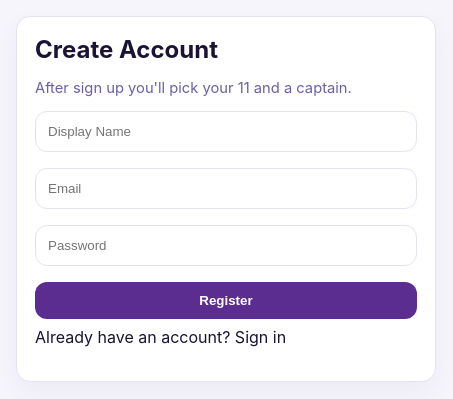
Register Component › disables form inputs during loading
In the field with placeholder "Display Name": (226, 132) [35,111,417,152], type "John Doe"
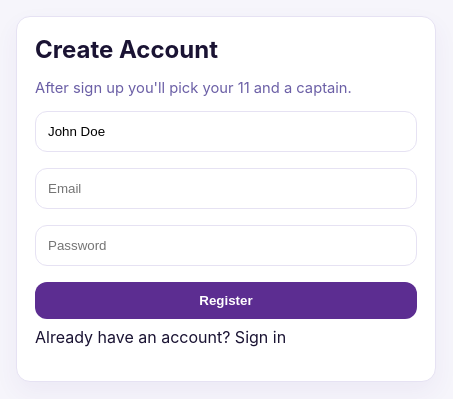
In the field with placeholder "Email": (226, 189) [35,168,417,209], type "john@example.com"
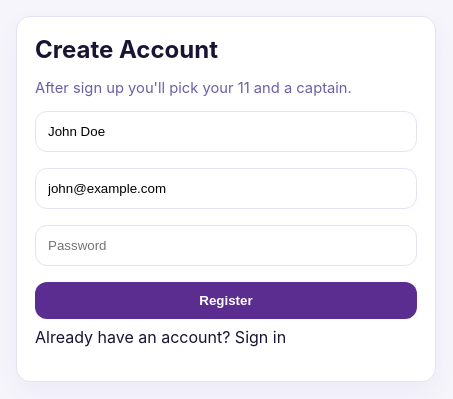
In the password field with placeholder "Password": (226, 246) [35,225,417,266], type "password123"
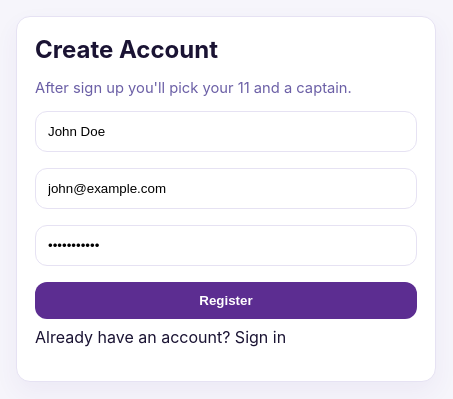
Click the button "Register": (226, 301) [35,282,417,319]
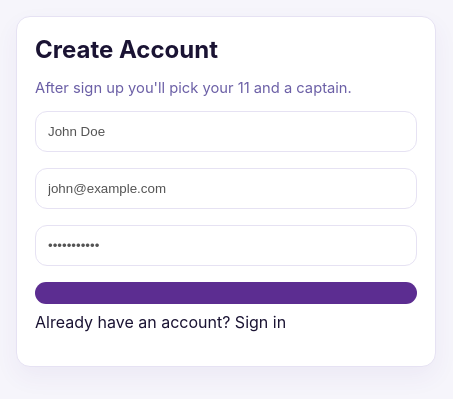
Now the 1st field with placeholder "Display Name" is disabled, box [35,111,417,152]
Now the 2nd field with placeholder "Email" is disabled, box [35,168,417,209]
Now the password field with placeholder "Password" is disabled, box [35,225,417,266]
